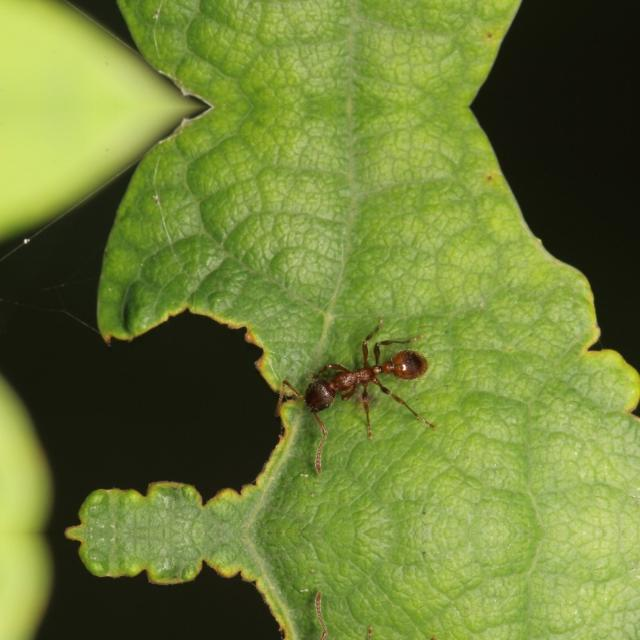Myrmica: (274, 336, 442, 438)
